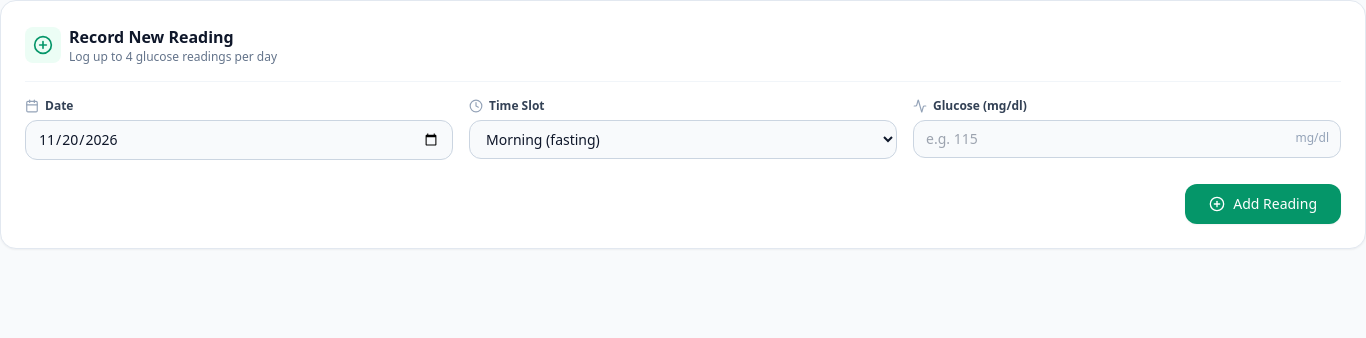
ReadingForm Component - Validation Rules & Submission › 3. Date cannot be in the future: displays "Date cannot be in the future."
Type "120" into the number field with test id "reading-value-input". click: (1127, 139)
box: x1=913 y1=120 x2=1341 y2=158
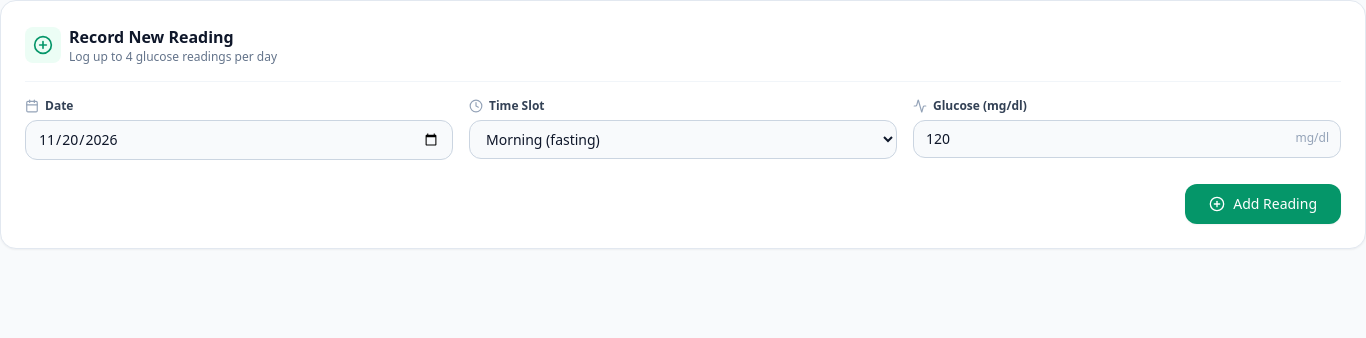
Type "2099-01-01" into the date field with test id "reading-date-input". click: (239, 140)
box: x1=25 y1=120 x2=453 y2=160
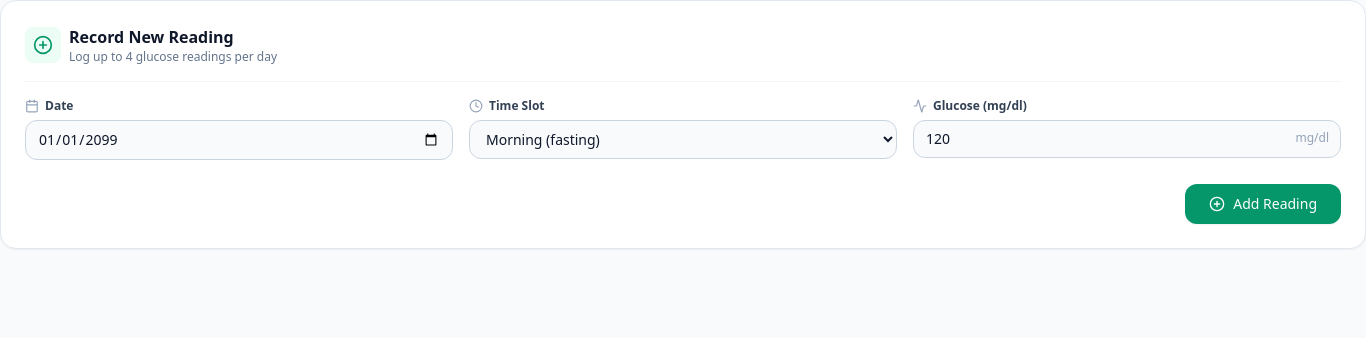
Click the button with test id "submit-reading-button". click: (1263, 204)
box: x1=1185 y1=184 x2=1341 y2=224
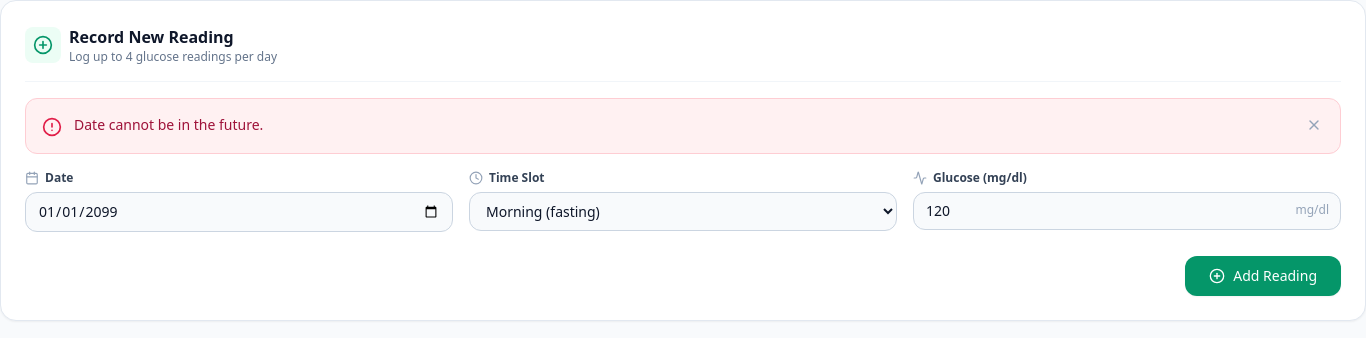
Expected: the text "Date cannot be in the future." is shown, x1=74 y1=115 x2=263 y2=135
